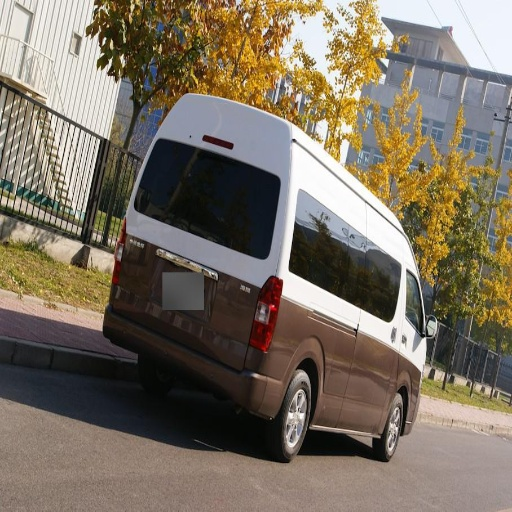back_bumper: (154, 339, 215, 375)
back_glass: (136, 135, 269, 248)
back_right_door: (322, 302, 358, 423)
trunk: (121, 218, 264, 360)
